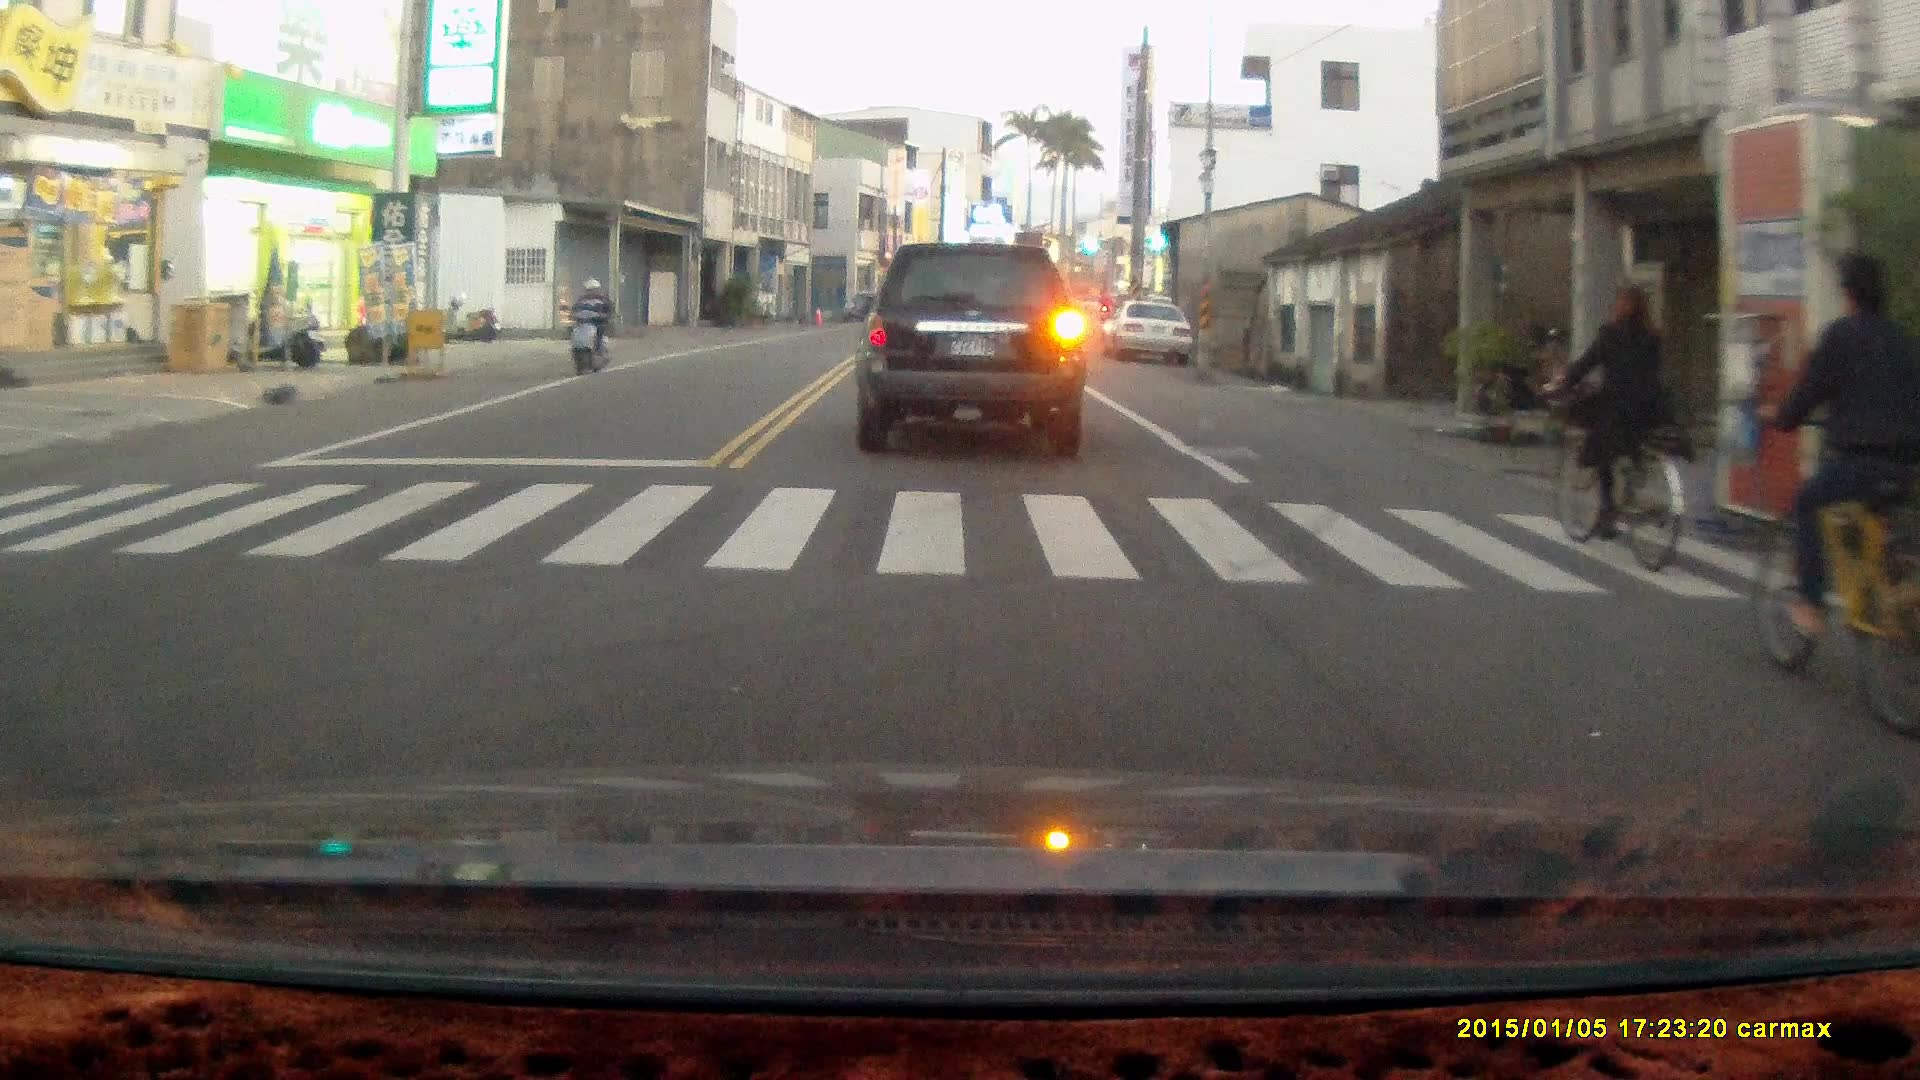rider: (1752, 250, 1920, 728), (1540, 279, 1684, 575), (561, 273, 615, 376)
vehicle: (857, 242, 1089, 465), (1107, 304, 1194, 368)
